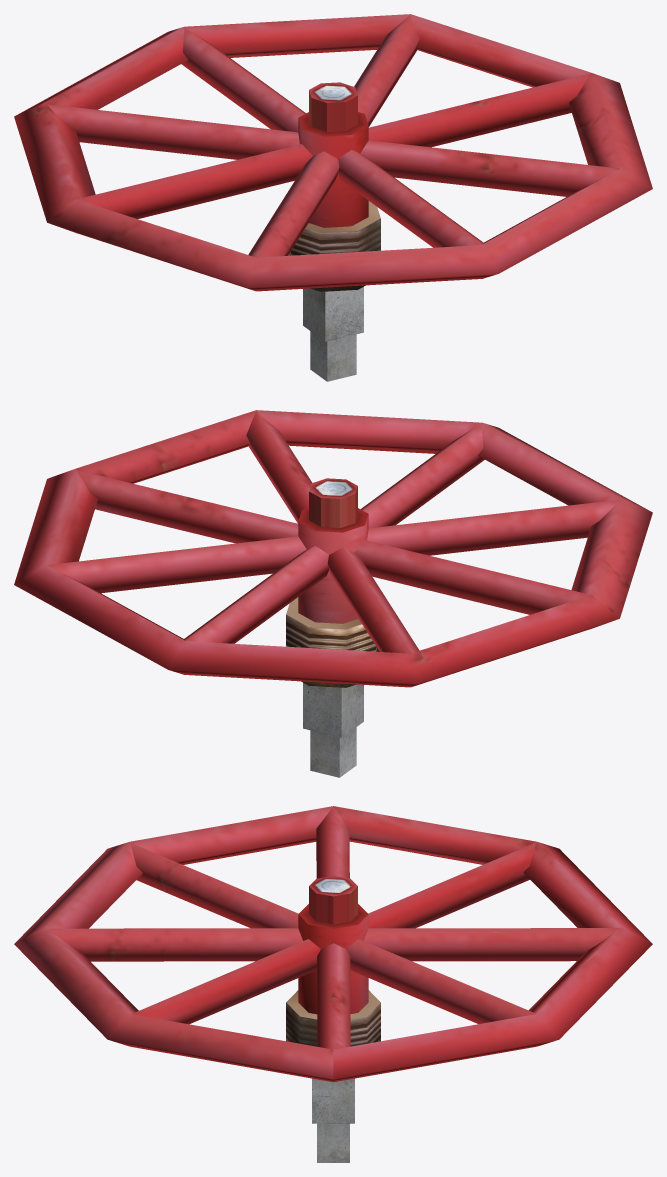
File: Valve.fbx
3 views of the same model, one above another, from view 1: azimuth 30°, elevation 25°; view 2: azimuth 150°, elevation 25°; view 3: azimuth 270°, elevation 25° (orthographic). The views are drawn at different scales.
Parts seen in each view (by area): view 1: ValveLow; view 2: ValveLow; view 3: ValveLow.
Part boxes in pixels (<box>): ValveLow: <box>14,14,652,381</box>; ValveLow: <box>14,410,652,777</box>; ValveLow: <box>14,806,652,1162</box>.
Bounding box in the file's own units: 229 × 107 × 229.
